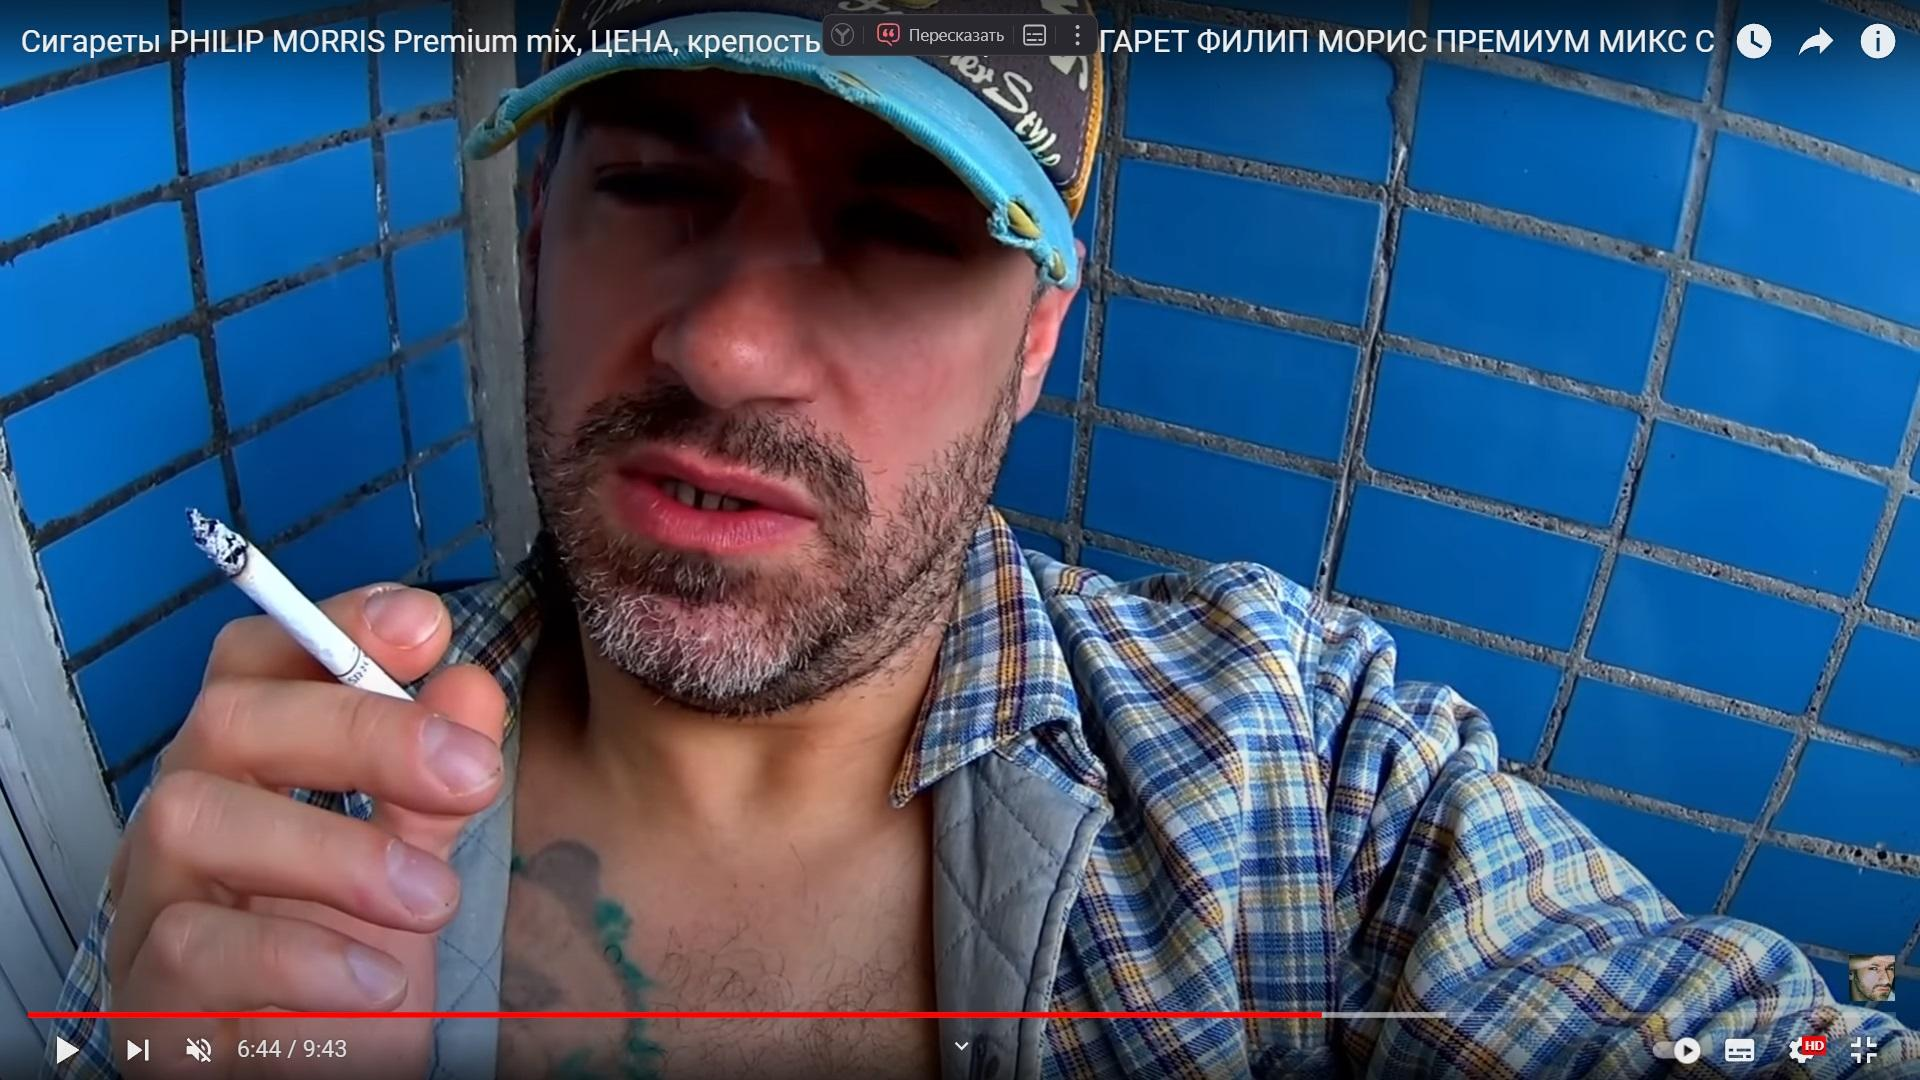cigarette: (187, 510, 409, 698)
